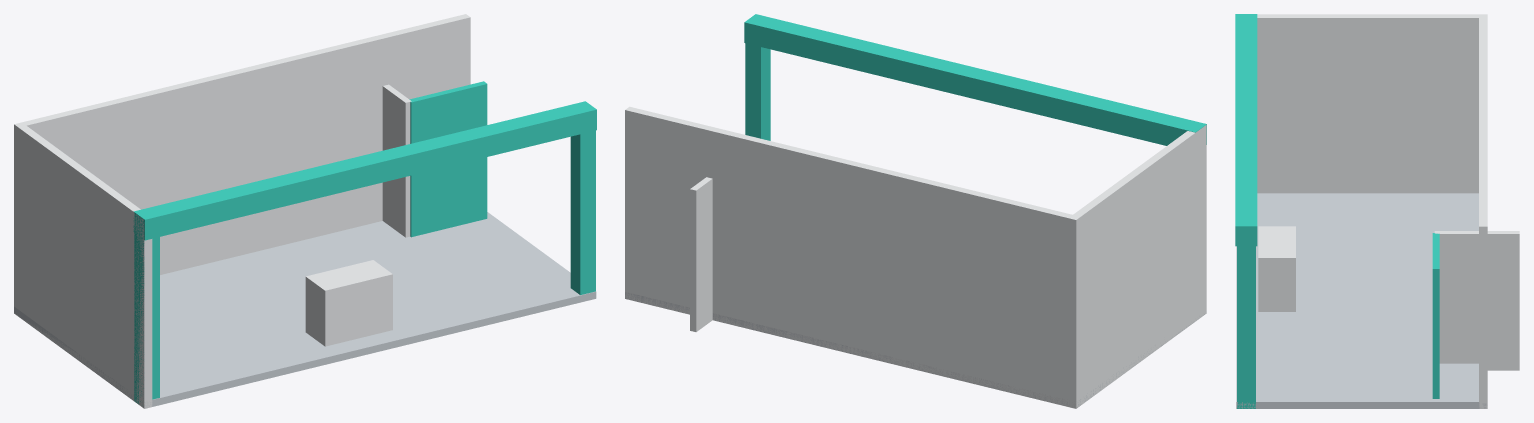
3 views of the same model, side by side, from view 1: azimuth 30°, elevation 25°; view 2: azimuth 150°, elevation 25°; view 3: azimuth 270°, elevation 25° (orthographic). The views are drawn at different scales.
Visible parts, largest first — view 1: Exhibition Booth Concept; view 2: Exhibition Booth Concept; view 3: Exhibition Booth Concept.
Part boxes in pixels (<box>): Exhibition Booth Concept: <box>14,14,596,408</box>; Exhibition Booth Concept: <box>625,14,1206,408</box>; Exhibition Booth Concept: <box>1235,14,1519,408</box>.
Size of the model in its own units: 8 by 3.2 by 4.52.
